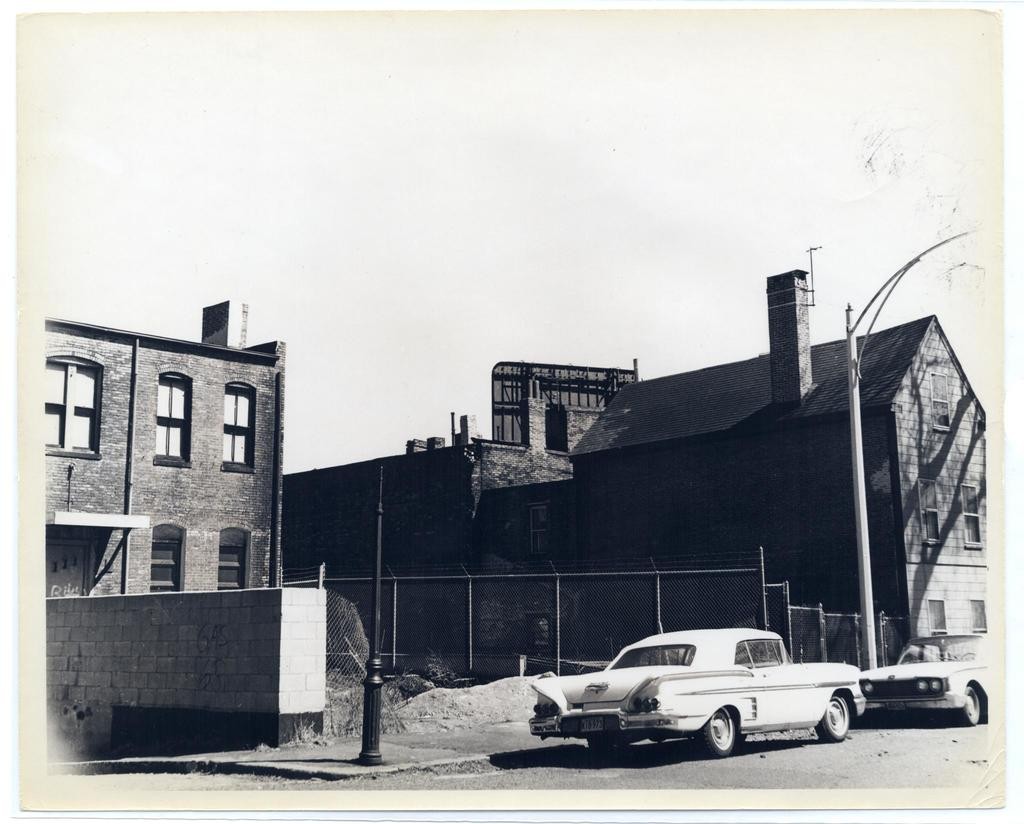Car: (531, 627, 869, 754), (858, 633, 987, 722)
